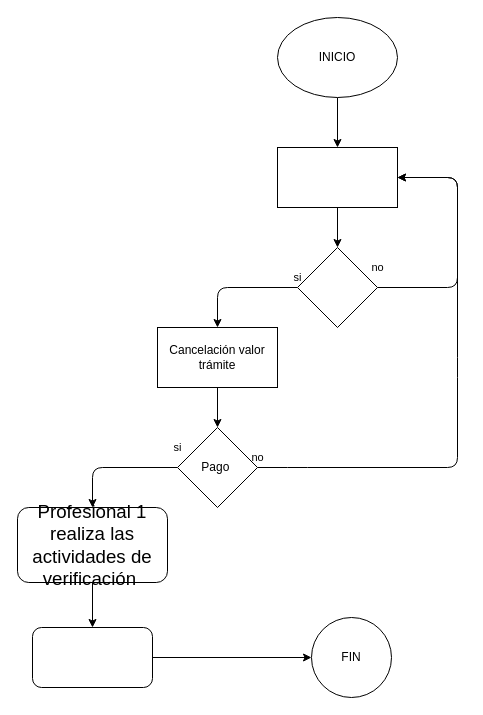
The diagram is 483 pixels wide and 715 high, and some of its shapes have lost their labels. Each missing label, with the box of its shape:
Cumple requisitos: (296, 246, 378, 328)
El usuario ingresa los documentos solicitados: (276, 146, 398, 208)
Se tramita el certificado: (32, 626, 152, 688)
